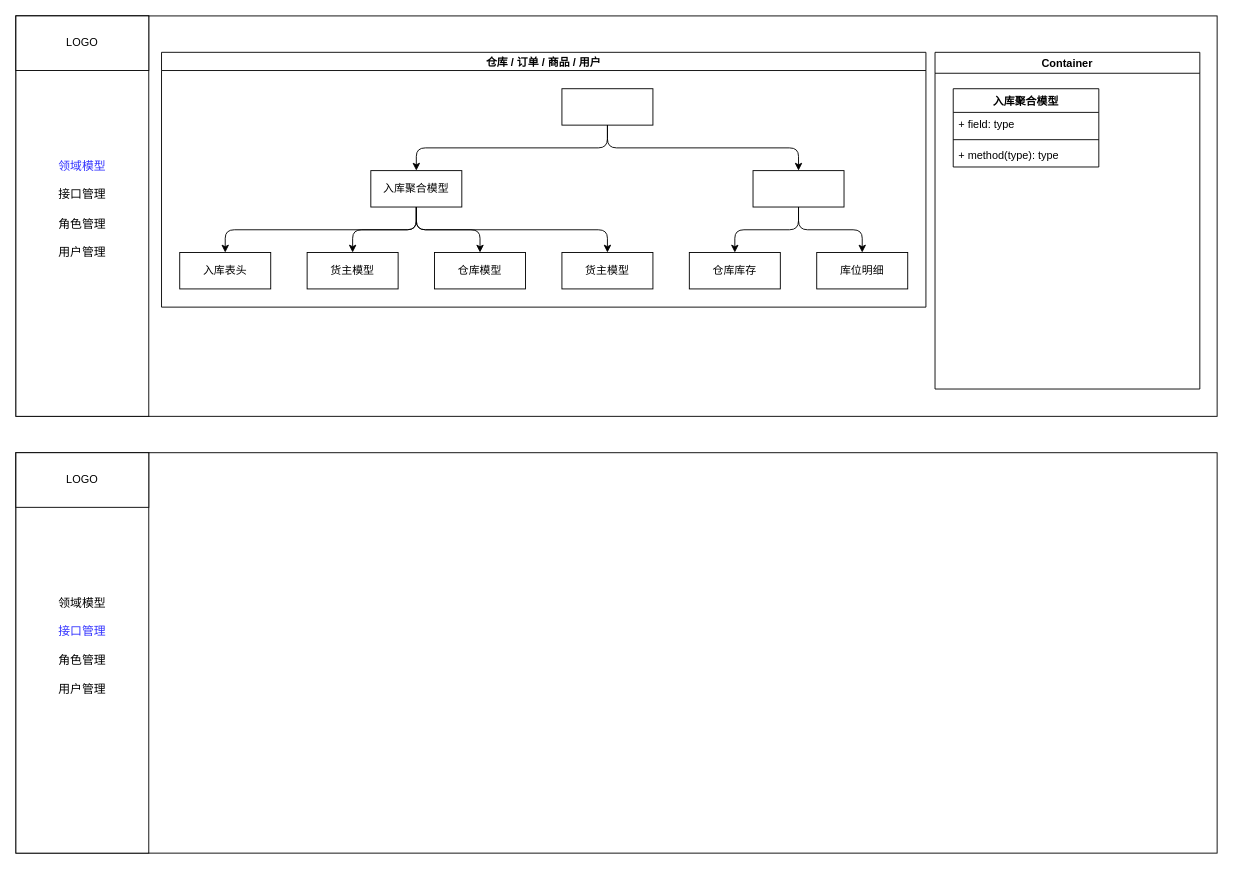
Image size: 1233x869. Some labels were removed from this diagram. The centre of each missing label's shape, as x and y in pixels:
"仓库域" goes at (x=607, y=106).
"仓库聚合模型" goes at (x=798, y=188).
